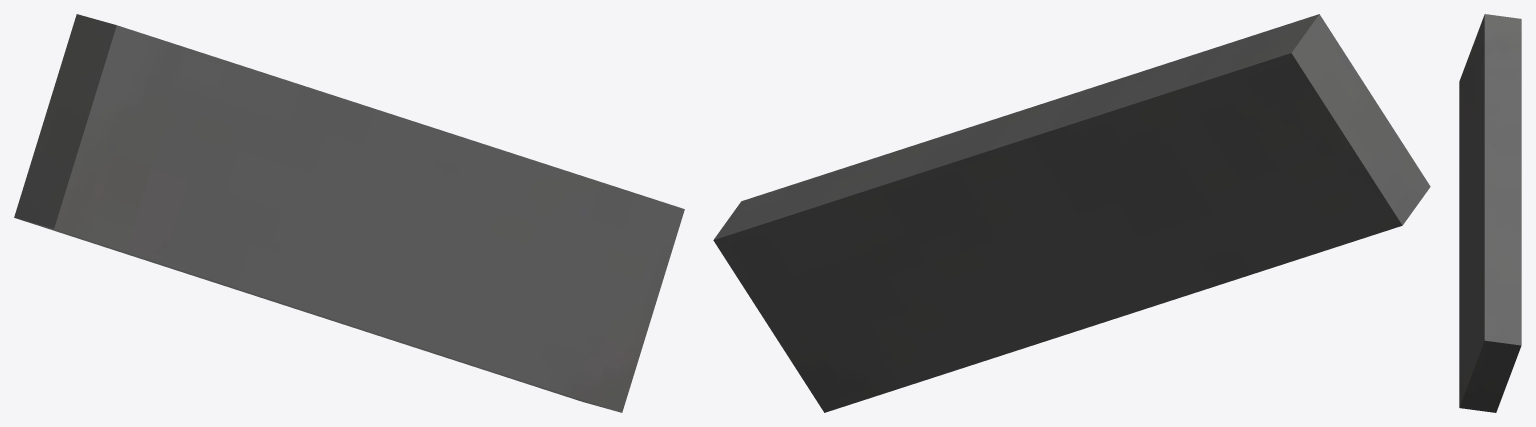
Rendered from fan_right__blade_3.glb.
3 renders of one model, left to right at view 1: azimuth 30°, elevation 25°; view 2: azimuth 150°, elevation 25°; view 3: azimuth 270°, elevation 25°, orthographic. The views are drawn at different scales.
Parts seen in each view (by area): view 1: world; view 2: world; view 3: world.
Part boxes in pixels (bbox=[...]): world: bbox=[14, 14, 684, 412]; world: bbox=[713, 14, 1430, 412]; world: bbox=[1459, 14, 1521, 412].
Bounding box in the file's own units: 0.0286 × 0.0207 × 0.00428.
1 material, 1 textured.
